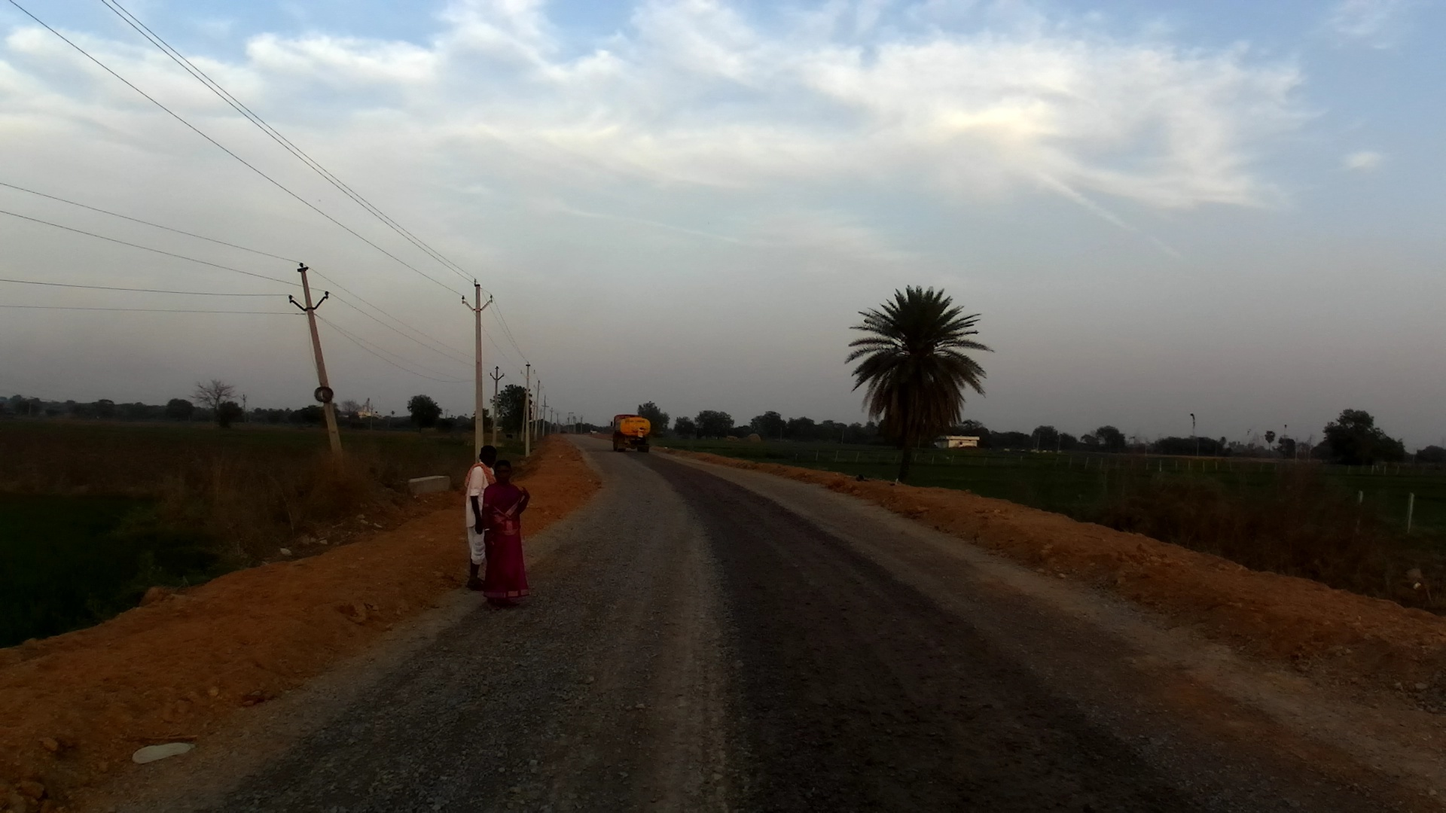person: (477, 459, 531, 605), (462, 448, 510, 595)
truck: (609, 411, 653, 455)
